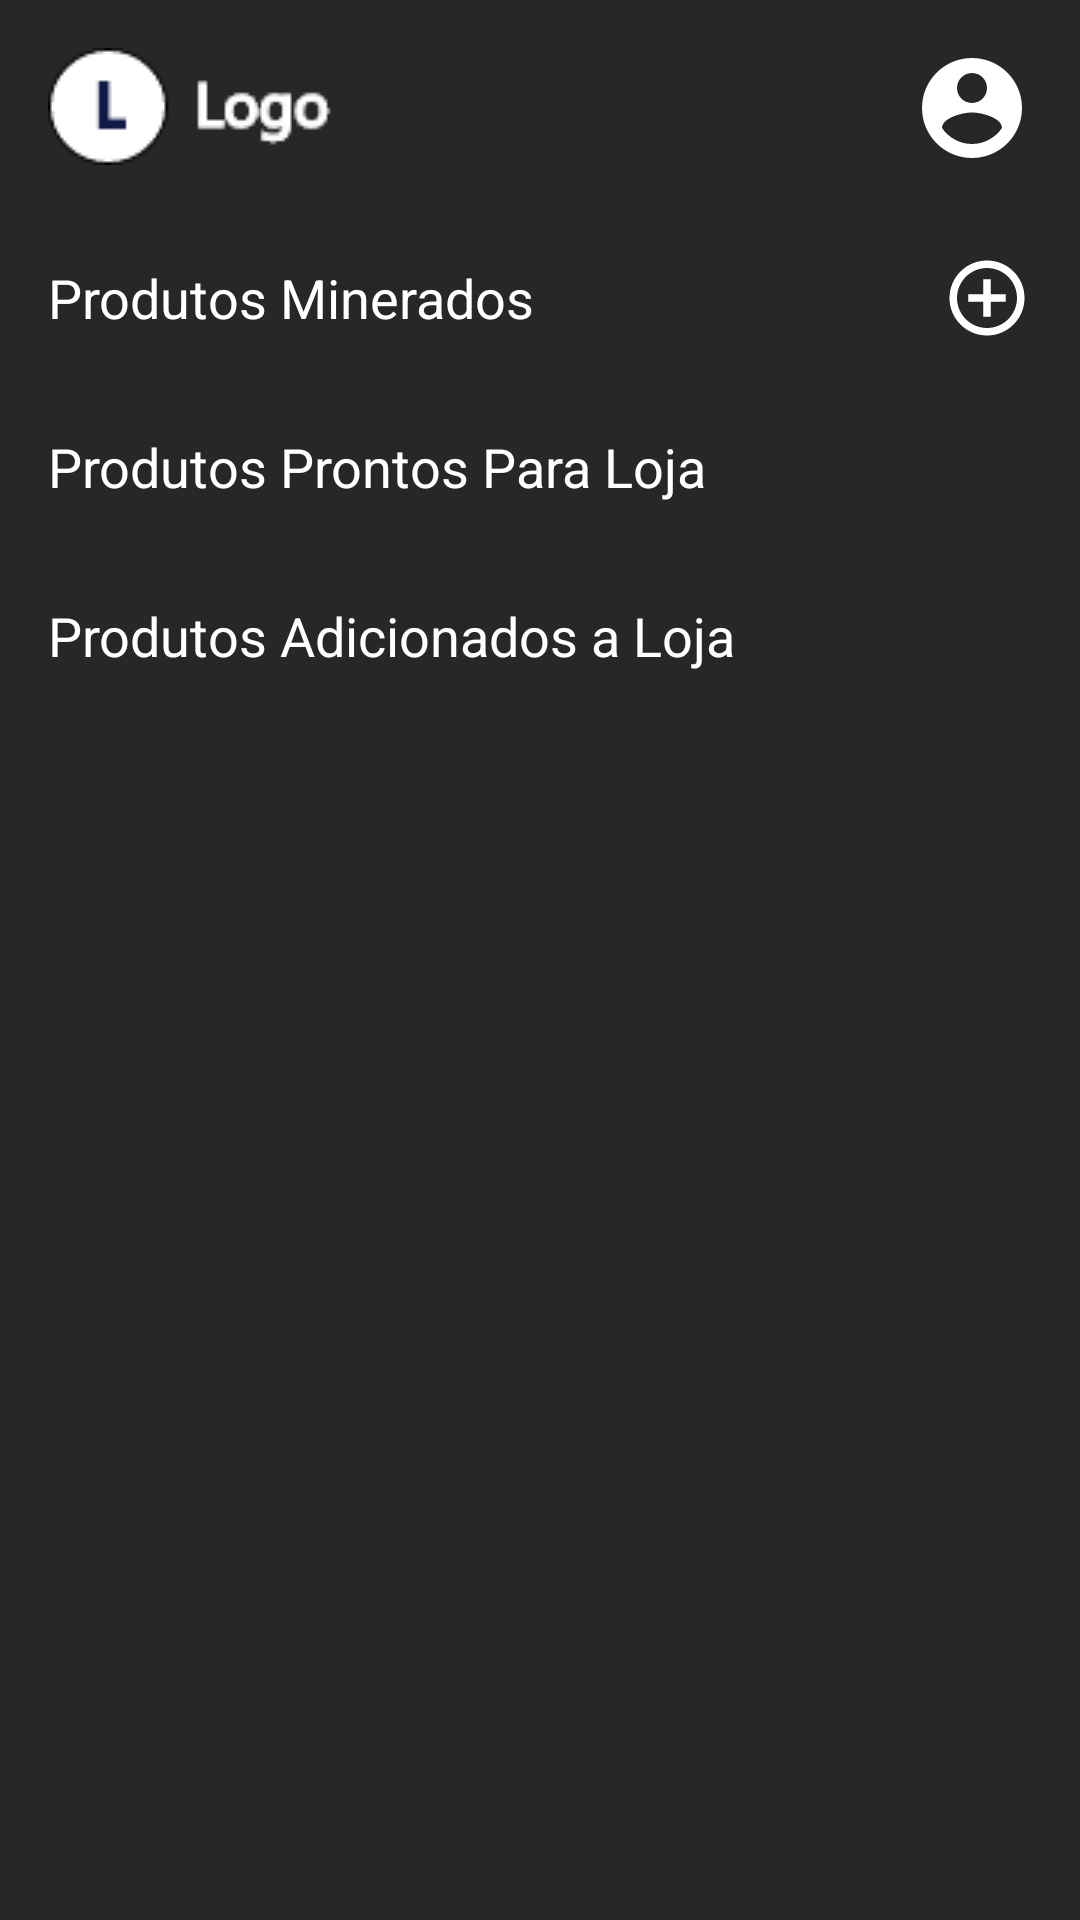

Where icons sit on this 1080*1920 app screen, as (x1, y1, x2, y2):
add: (949, 260, 1025, 336)
user: (922, 58, 1022, 158)
